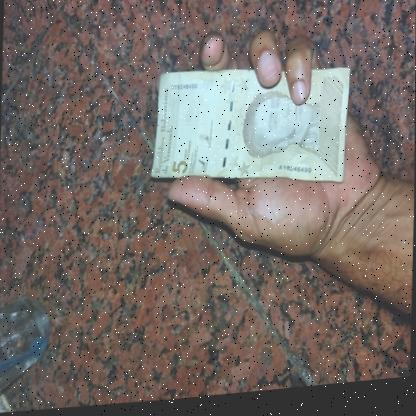five-front-vef: (149, 60, 350, 204)
